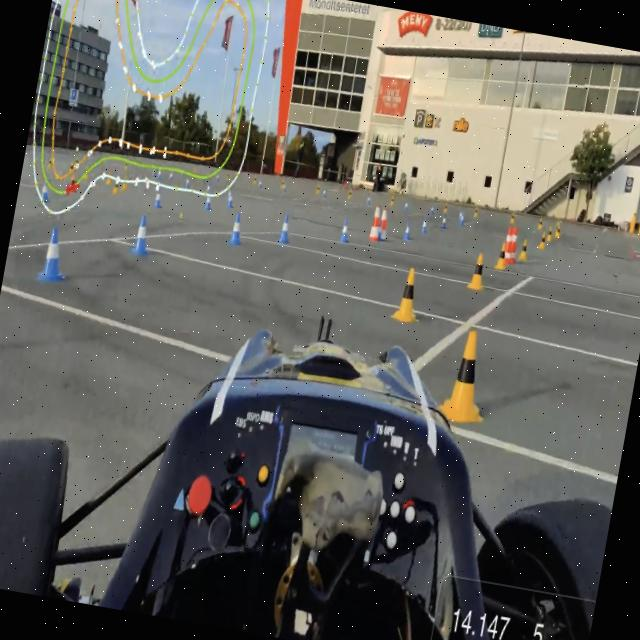blue_cone: (38, 222, 72, 284), (129, 212, 154, 256), (276, 210, 294, 246), (228, 211, 245, 248), (36, 177, 52, 206), (338, 218, 352, 245), (202, 193, 214, 214), (152, 190, 163, 210), (225, 190, 235, 211), (402, 221, 412, 241), (420, 216, 429, 234), (439, 213, 449, 229), (458, 209, 466, 229), (456, 206, 464, 224), (182, 175, 190, 192), (428, 202, 436, 217), (205, 182, 211, 196), (402, 200, 408, 214), (321, 188, 327, 200)
large_orange_cone: (368, 203, 383, 242), (507, 226, 521, 266), (377, 206, 391, 241), (502, 226, 514, 265)
yellow_cone: (438, 320, 498, 431), (388, 264, 428, 326), (464, 249, 490, 293), (494, 241, 508, 270), (518, 235, 530, 262), (536, 230, 548, 250), (111, 175, 120, 196), (508, 210, 517, 228), (554, 222, 562, 241), (472, 203, 481, 219), (546, 225, 554, 242), (536, 216, 544, 231), (388, 192, 396, 207), (442, 200, 449, 216), (314, 181, 321, 196), (346, 186, 353, 200), (278, 178, 284, 191), (251, 174, 257, 187)
